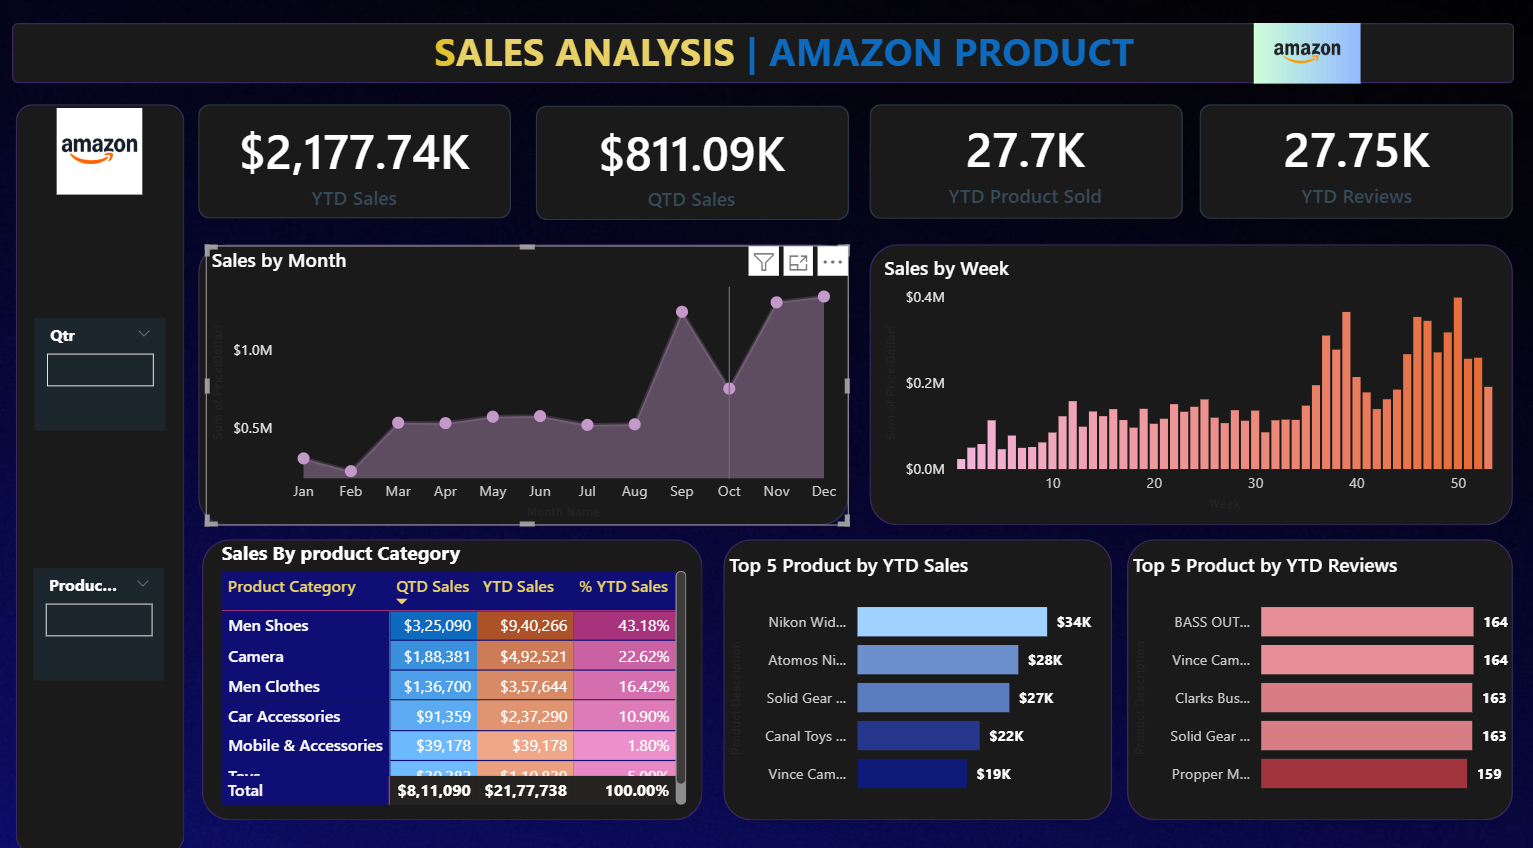

This screenshot's page, from the dashboard's own definition file:
{"tool":"powerbi","page":{"name":"Page 1","canvas":[1280,720],"ordinal":0},"visuals":[{"type":"shape","box":[12.8,20.9,1248.8,50],"z":0},{"type":"shape","box":[167.9,88.4,260,95],"z":0,"group":"g1"},{"type":"textbox","box":[358.1,17.4,605.8,53.5],"z":1000},{"type":"shape","box":[447.7,89.6,260.5,95.3],"z":1000,"group":"g1"},{"type":"shape","box":[15.6,88.3,140.3,622.5],"z":2000},{"type":"card","fields":{"Values":["Amazon_Data.QTD Sales"]},"box":[446.5,91.9,261.6,94.2],"z":2000,"group":"g1"},{"type":"group","id":"g1","title":"Group 1","box":[166.3,88.4,1095.4,97.7],"z":3000},{"type":"shape","box":[725.6,88.4,260.5,95.3],"z":3000,"group":"g1"},{"type":"shape","box":[1000,88.4,260.5,95.3],"z":4000,"group":"g1"},{"type":"shape","box":[167.4,204.7,540.7,233.7],"z":4000},{"type":"card","fields":{"Values":["Amazon_Data.YTD Sales"]},"box":[166.3,90.8,261.6,94.2],"z":5000,"group":"g1"},{"type":"areaChart","title":"Sales by Month","fields":{"Category":["Date Table.Month Name"],"Y":["Sum(Amazon_Data.Price(Dollar))"]},"box":[173.3,205.8,534.9,232.6],"z":5000},{"type":"card","fields":{"Values":["Amazon_Data.YTD Product Sold"]},"box":[724.4,89.6,261.6,93],"z":6000,"group":"g1"},{"type":"shape","box":[725.6,204.7,534.9,233.7],"z":6000},{"type":"card","fields":{"Values":["Amazon_Data.YTD Reviews"]},"box":[1000,88.4,261.6,94.2],"z":7000,"group":"g1"},{"type":"columnChart","title":"Sales by Week","fields":{"Category":["Date Table.Week"],"Y":["Sum(Amazon_Data.Price(Dollar))"]},"box":[732.6,212.8,519.8,218.6],"z":7000},{"type":"shape","box":[170.9,450,416.3,233.7],"z":8000},{"type":"pivotTable","title":"Sales By product Category","fields":{"Rows":["Amazon_Data.Product Category"],"Values":["Amazon_Data.QTD Sales","Amazon_Data.YTD Sales1","Amazon_Data.YTD Sales"]},"box":[181.4,450,396.5,225.6],"z":9000},{"type":"shape","box":[603.5,450,323.3,233.7],"z":10000},{"type":"shape","box":[939.5,450,320.9,233.7],"z":11000},{"type":"clusteredBarChart","title":"Top 5 Product by YTD Sales","fields":{"Category":["Amazon_Data.Product Description"],"Y":["Amazon_Data.YTD Sales"]},"box":[603.5,459.3,323.3,216.3],"z":12000},{"type":"clusteredBarChart","title":"Top 5 Product by YTD Reviews","fields":{"Category":["Amazon_Data.Product Description"],"Y":["Amazon_Data.YTD Reviews"]},"box":[939.5,459.3,323.3,216.3],"z":13000},{"type":"slicer","fields":{"Values":["Amazon_Data.Product Category"]},"box":[30.1,473.9,109.1,93.5],"z":14000},{"type":"slicer","fields":{"Values":["Date Table.Qtr"]},"box":[31.2,266.1,109.1,93.5],"z":15000},{"type":"image","box":[1018.6,20.9,141.9,50],"z":16000},{"type":"image","box":[0,91.5,170.4,71.7],"z":17000}]}

Visuals, with their boxes in screenshot pixels (x1, y1, x2, y2), scaled from the page's 1280x720 canvas onto the 1533x848 screenshot:
shape: pyautogui.locateOnScreen(15, 25, 1511, 84)
shape: pyautogui.locateOnScreen(201, 104, 512, 216)
textbox: pyautogui.locateOnScreen(429, 20, 1154, 84)
shape: pyautogui.locateOnScreen(536, 106, 848, 218)
shape: pyautogui.locateOnScreen(19, 104, 187, 837)
card - Amazon_Data.QTD Sales: pyautogui.locateOnScreen(535, 108, 848, 219)
"Group 1" group: pyautogui.locateOnScreen(199, 104, 1511, 219)
shape: pyautogui.locateOnScreen(869, 104, 1181, 216)
shape: pyautogui.locateOnScreen(1198, 104, 1510, 216)
shape: pyautogui.locateOnScreen(200, 241, 848, 516)
card - Amazon_Data.YTD Sales: pyautogui.locateOnScreen(199, 107, 512, 218)
"Sales by Month" areaChart: pyautogui.locateOnScreen(208, 242, 848, 516)
card - Amazon_Data.YTD Product Sold: pyautogui.locateOnScreen(868, 106, 1181, 215)
shape: pyautogui.locateOnScreen(869, 241, 1510, 516)
card - Amazon_Data.YTD Reviews: pyautogui.locateOnScreen(1198, 104, 1511, 215)
"Sales by Week" columnChart: pyautogui.locateOnScreen(877, 251, 1500, 508)
shape: pyautogui.locateOnScreen(205, 530, 703, 805)
"Sales By product Category" pivotTable: pyautogui.locateOnScreen(217, 530, 692, 796)
shape: pyautogui.locateOnScreen(723, 530, 1110, 805)
shape: pyautogui.locateOnScreen(1125, 530, 1510, 805)
"Top 5 Product by YTD Sales" clusteredBarChart: pyautogui.locateOnScreen(723, 541, 1110, 796)
"Top 5 Product by YTD Reviews" clusteredBarChart: pyautogui.locateOnScreen(1125, 541, 1512, 796)
slicer - Amazon_Data.Product Category: pyautogui.locateOnScreen(36, 558, 167, 668)
slicer - Date Table.Qtr: pyautogui.locateOnScreen(37, 313, 168, 424)
image: pyautogui.locateOnScreen(1220, 25, 1390, 84)
image: pyautogui.locateOnScreen(0, 108, 204, 192)
